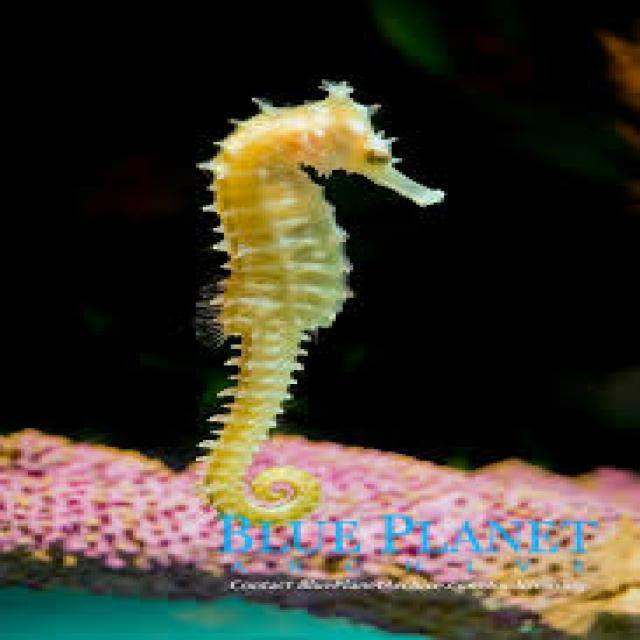SeaHorse: (203, 84, 437, 522)
